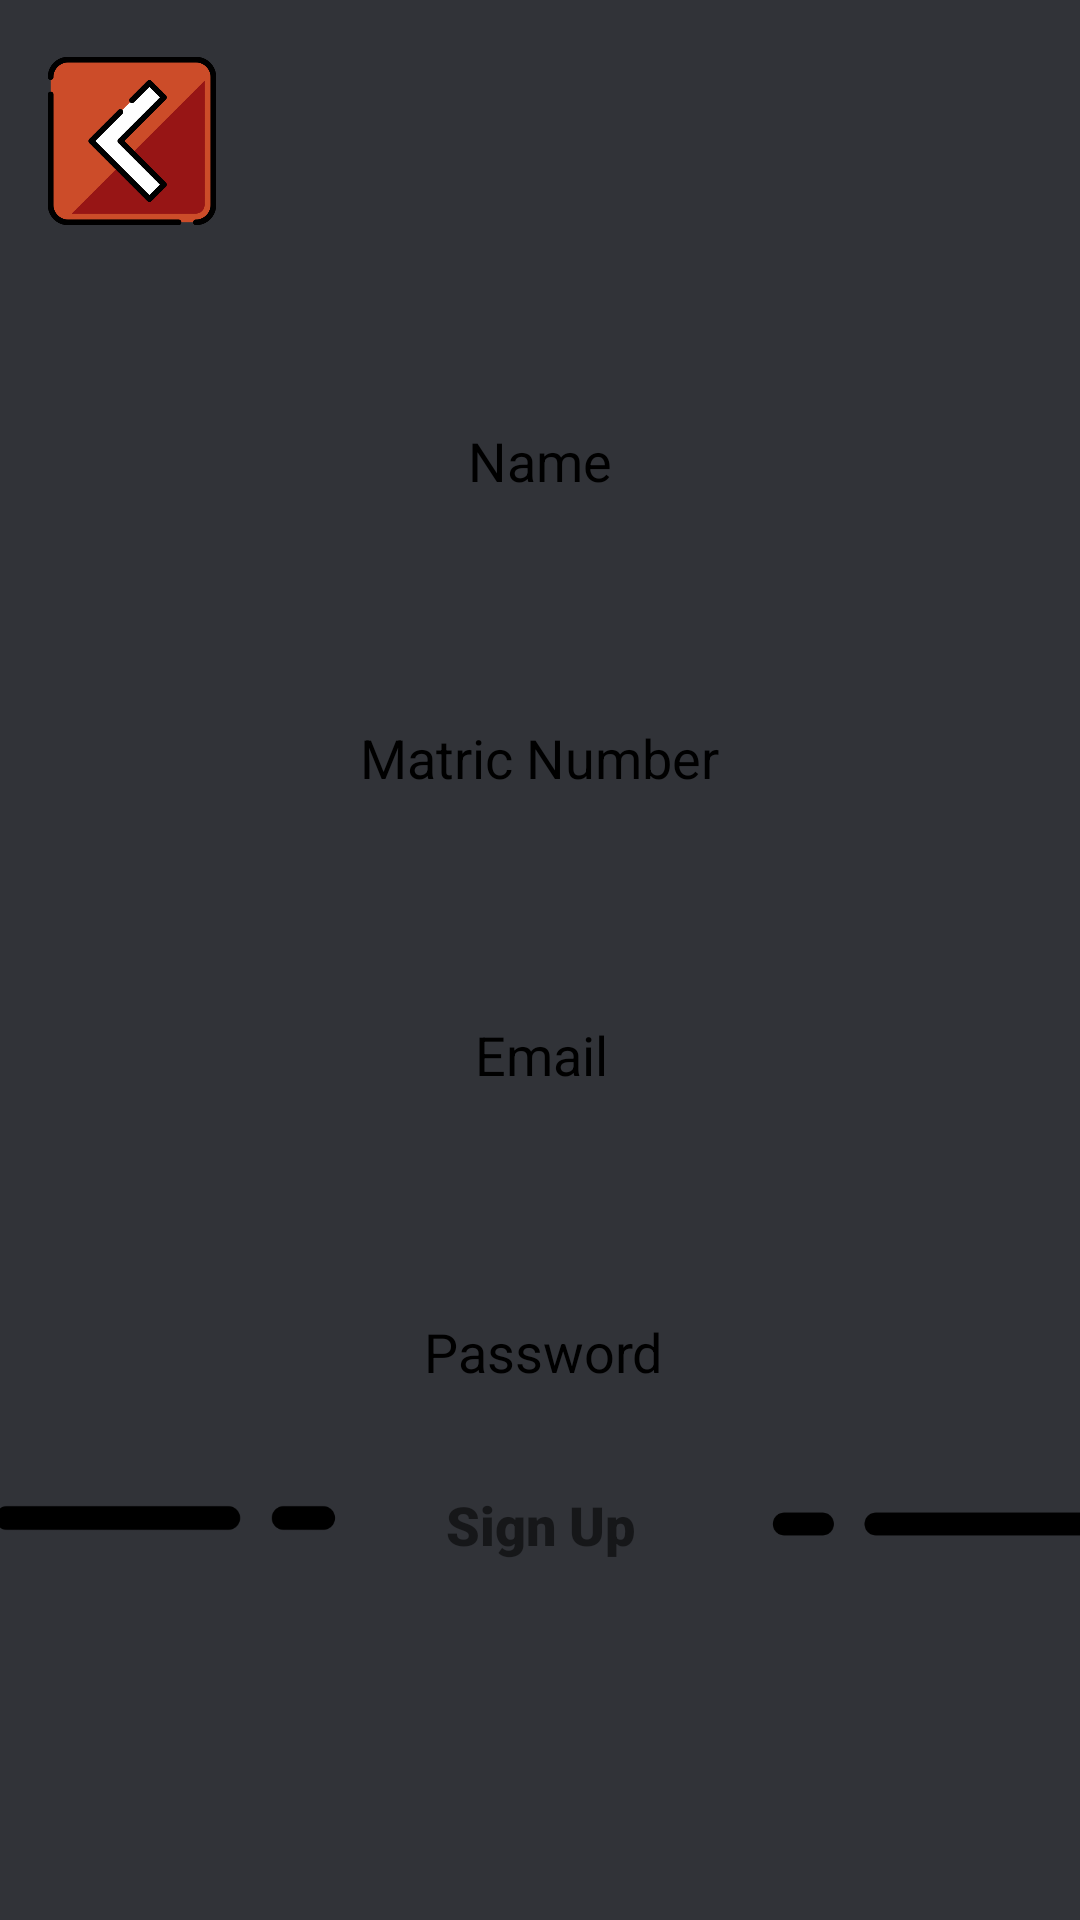

Named icons in this screenshot (1080 x 1920) and their centers, (x,y):
backbutton: (132,141)
